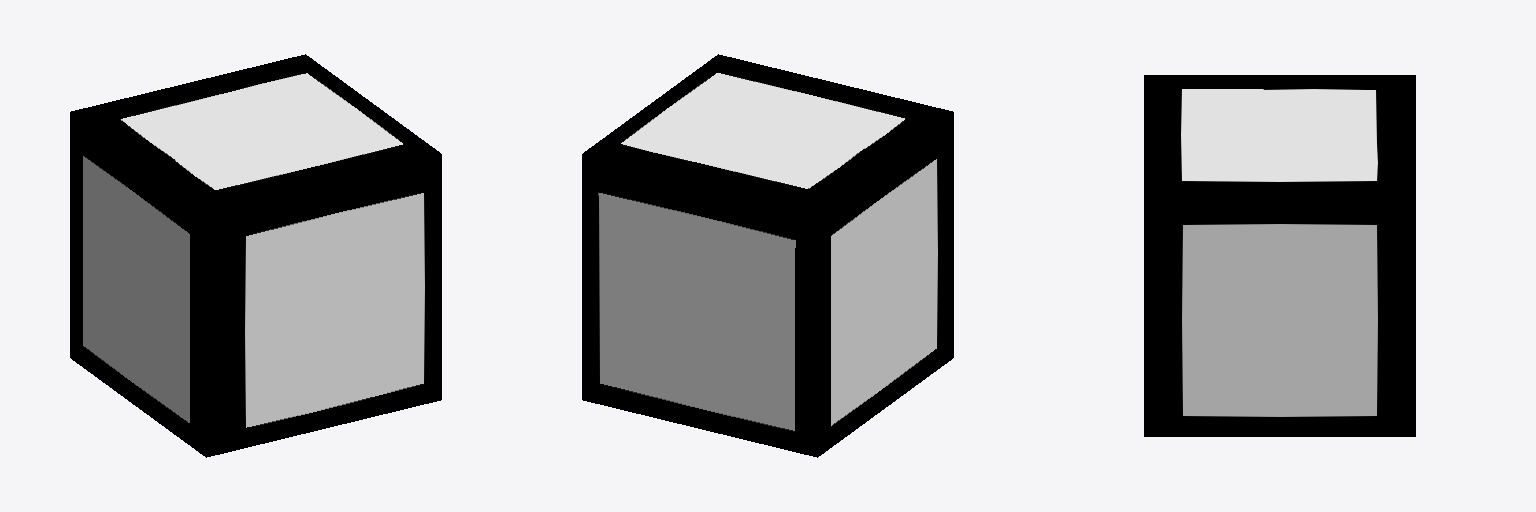
The picture shows the model from 3 angles: view 1: azimuth 30°, elevation 25°; view 2: azimuth 150°, elevation 25°; view 3: azimuth 270°, elevation 25°; orthographic projection.
Parts seen in each view (by area): view 1: 立方体.001; view 2: 立方体.001; view 3: 立方体.001.
Boxes of the visible parts, x1,y1,x2,y2 form: 立方体.001: [70, 54, 441, 457]; 立方体.001: [582, 54, 953, 457]; 立方体.001: [1144, 75, 1415, 436].
Size of the model in its own units: 2 by 2 by 2.
1 materials, 1 textured.